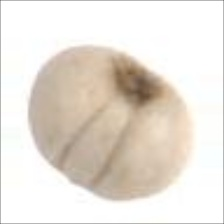L5: (58, 93, 135, 187), (109, 51, 170, 107), (43, 157, 99, 195)
L6: (26, 43, 195, 203)
